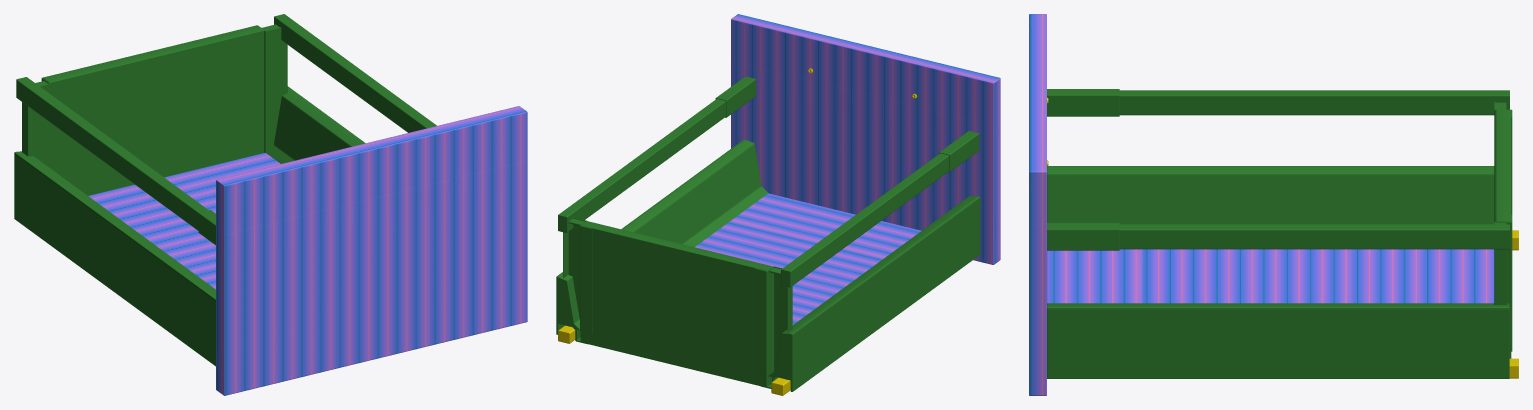
The model's file is SM_Kitchen_10_Drawer_02.fbx.
The picture shows the model from 3 angles, left to right: view 1: azimuth 30°, elevation 25°; view 2: azimuth 150°, elevation 25°; view 3: azimuth 270°, elevation 25°; orthographic projection. The views are drawn at different scales.
Visible parts, largest first — view 1: SM_Kitchen_10_Drawer_02; view 2: SM_Kitchen_10_Drawer_02; view 3: SM_Kitchen_10_Drawer_02.
Boxes of the visible parts, bbox=[...] form: SM_Kitchen_10_Drawer_02: bbox=[14, 14, 527, 395]; SM_Kitchen_10_Drawer_02: bbox=[556, 14, 1000, 395]; SM_Kitchen_10_Drawer_02: bbox=[1029, 14, 1518, 395].
Size of the model in its own units: 39.7 by 26.3 by 51.99.
4 materials, 2 textured.
